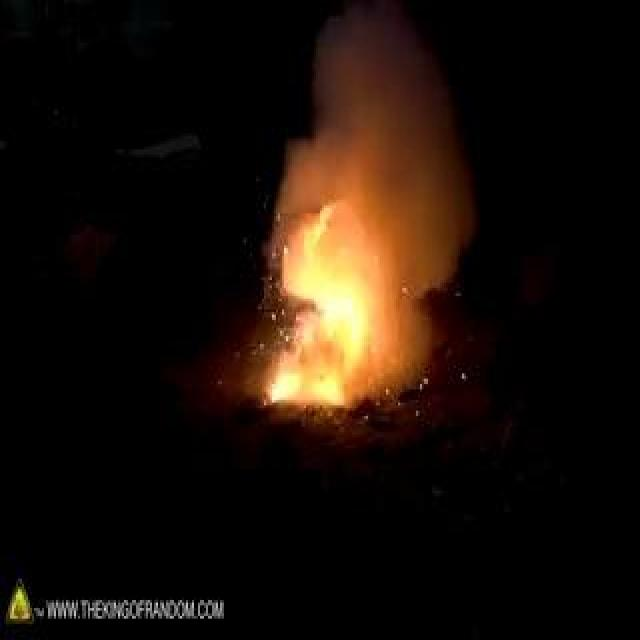Fire: (132, 174, 311, 330)
